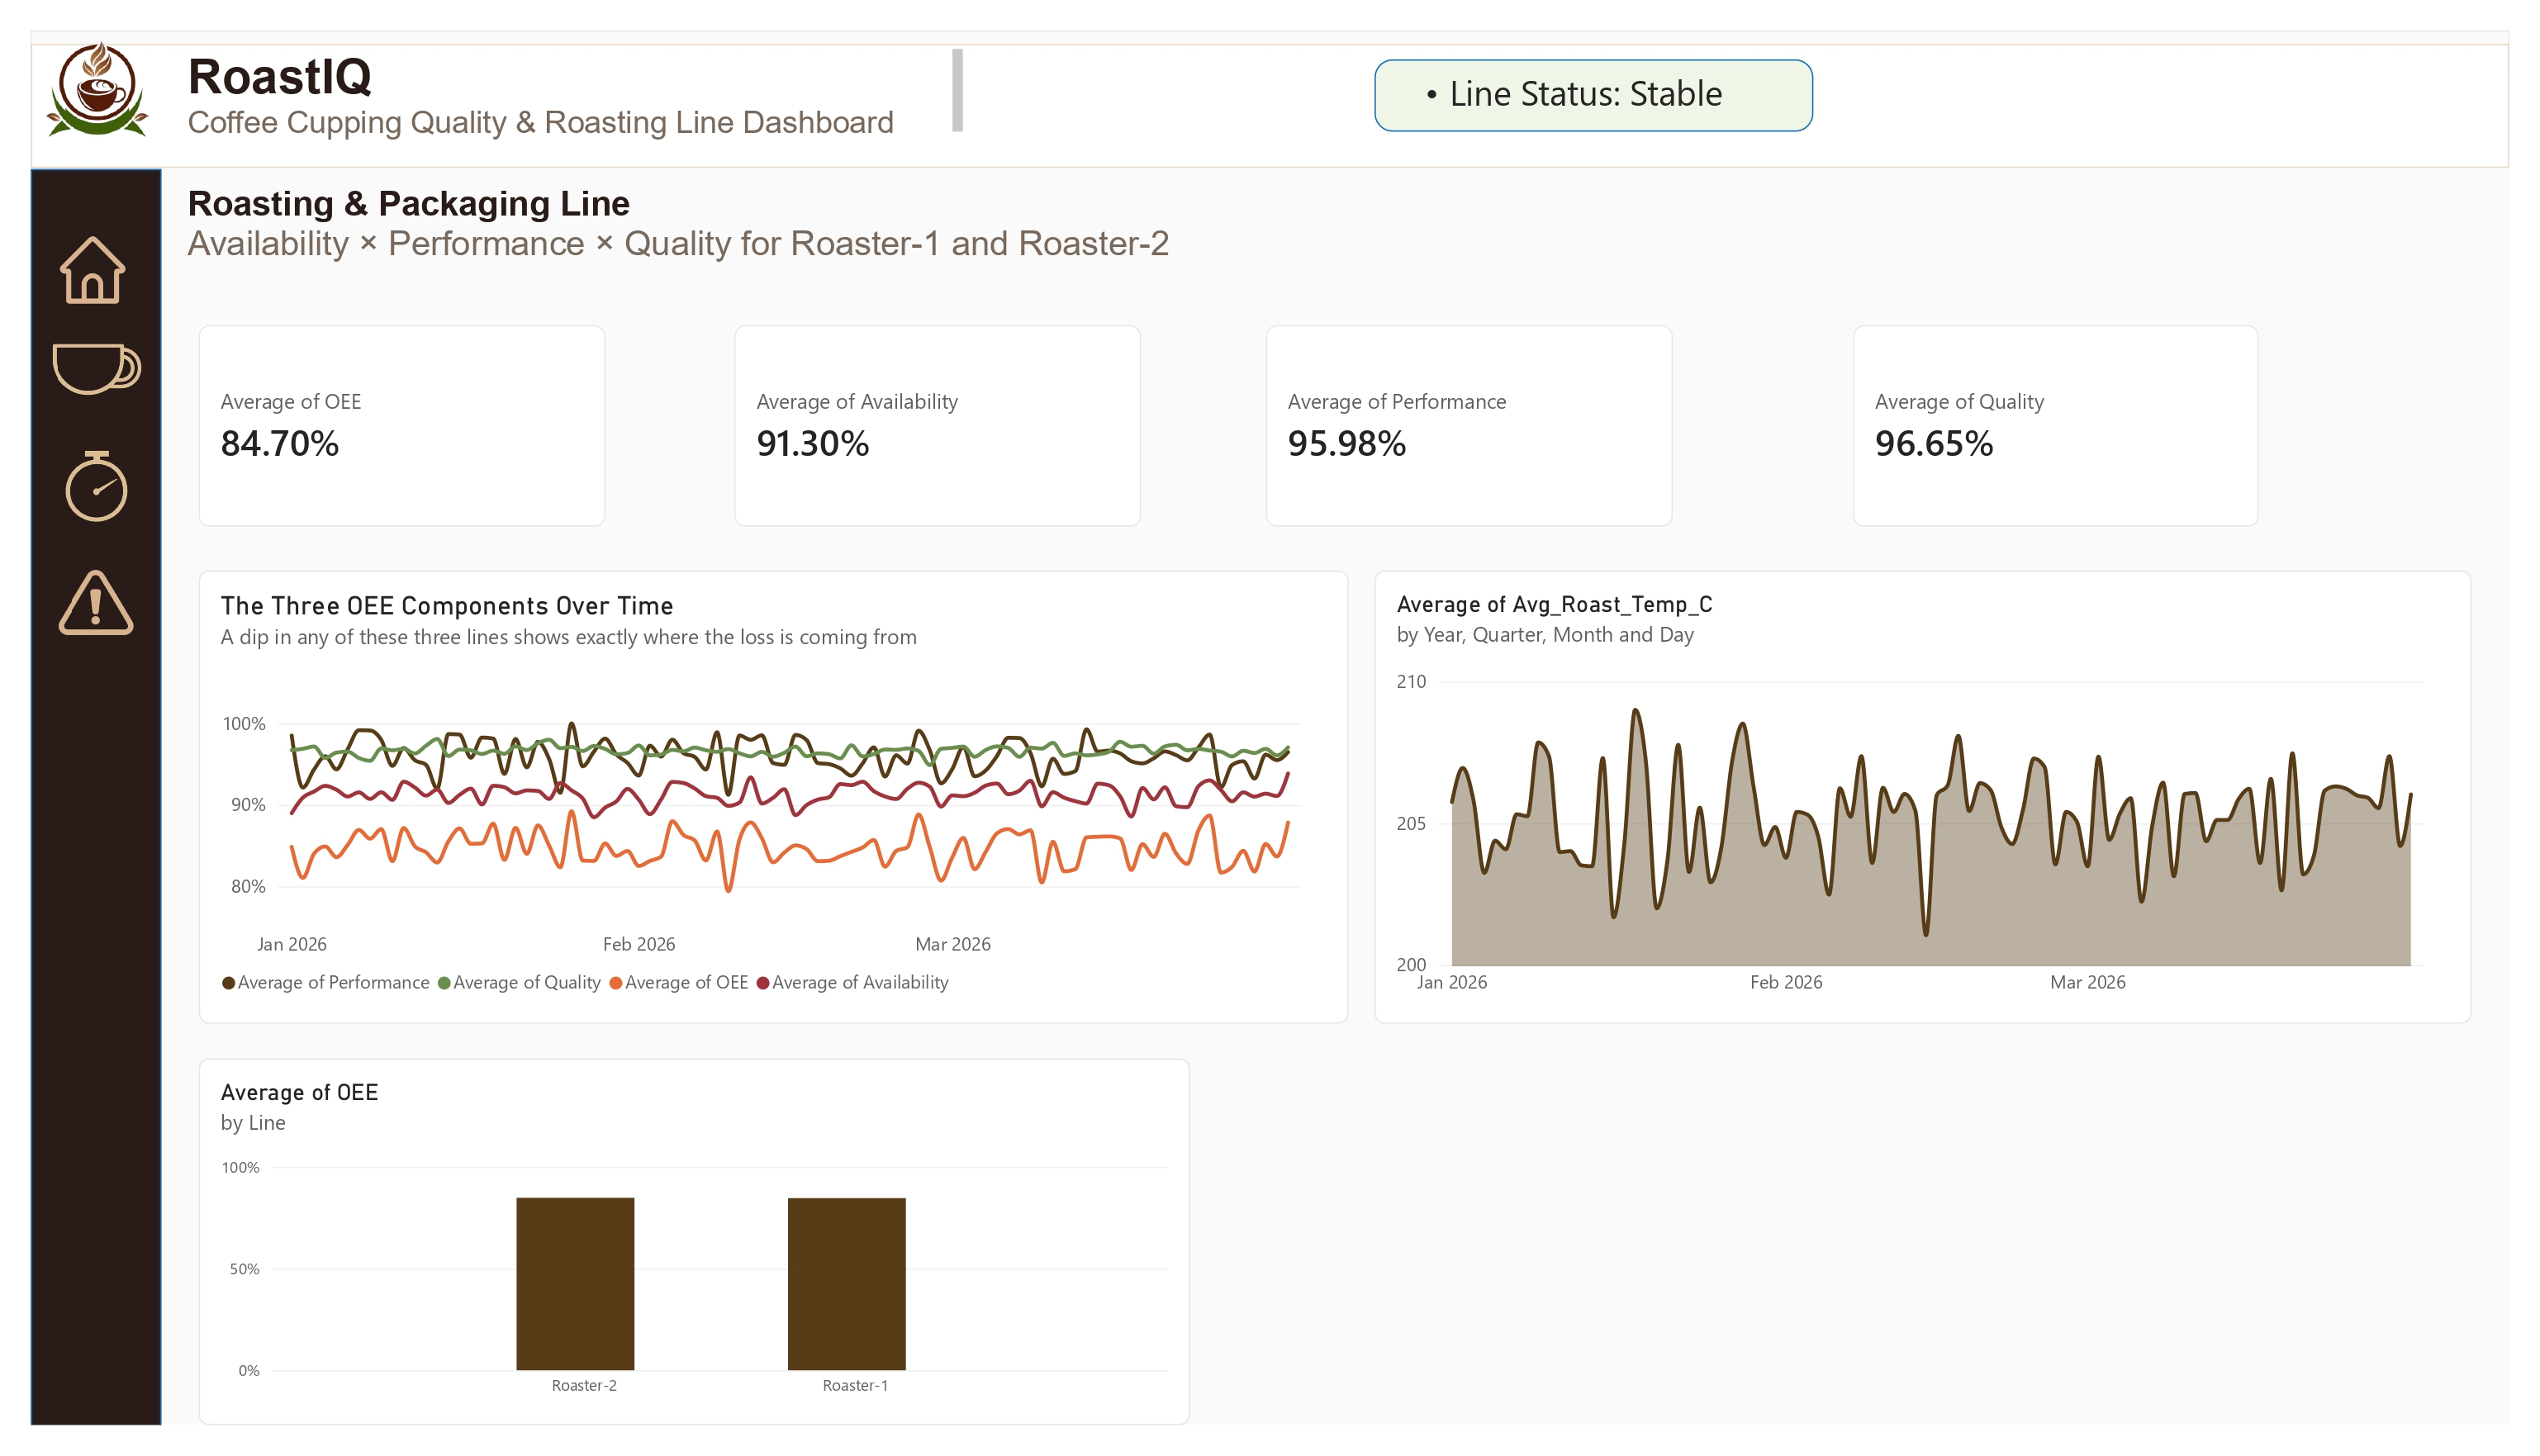

Layout of this report page (visuals, bound fields, positions):
{"tool":"powerbi","page":{"name":"Roasting Line","canvas":[1920,1080],"ordinal":2},"visuals":[{"type":"textbox","box":[121.2,119.4,1172.7,95.9],"z":0},{"type":"shape","box":[0,106.8,101,974],"z":1000},{"type":"cardVisual","fields":{"Data":["Avg(Fact_RoastingLine.OEE)"]},"box":[130.3,228,314.9,155.6],"z":2000},{"type":"cardVisual","fields":{"Data":["Avg(Fact_RoastingLine.Quality)"]},"box":[1411.5,228,314.9,155.6],"z":3000},{"type":"cardVisual","fields":{"Data":["Avg(Fact_RoastingLine.Performance)"]},"box":[957.3,228,314.9,155.6],"z":4000},{"type":"cardVisual","fields":{"Data":["Avg(Fact_RoastingLine.Availability)"]},"box":[544.7,228,314.9,155.6],"z":5000},{"type":"image","box":[9,155.6,77.8,59.7],"z":6000},{"type":"image","box":[12.7,320.3,79.6,63.3],"z":7000},{"type":"image","box":[14.5,412.6,70.6,58],"z":8000},{"type":"image","box":[9,229.8,81.4,61],"z":9000},{"type":"shape","box":[0,10,1920.1,95.9],"z":10000},{"type":"image","box":[2.1,0,97.7,90.5],"z":11000},{"type":"textbox","box":[121.2,14.5,600.8,76],"z":12000},{"type":"shape","box":[1040.8,21.6,340.2,56.1],"z":13000},{"type":"textbox","box":[1058.9,28.8,289.5,49],"z":14000},{"type":"lineChart","title":"The Three OEE Components Over Time","fields":{"Y":["Avg(Fact_RoastingLine.Performance)","Avg(Fact_RoastingLine.Quality)","Avg(Fact_RoastingLine.OEE)","Avg(Fact_RoastingLine.Availability)"],"Category":["Fact_RoastingLine.Date.Variation.Date Hierarchy.Year","Fact_RoastingLine.Date.Variation.Date Hierarchy.Quarter","Fact_RoastingLine.Date.Variation.Date Hierarchy.Month","Fact_RoastingLine.Date.Variation.Date Hierarchy.Day"]},"box":[130.3,418,890.4,351.1],"z":15000},{"type":"areaChart","fields":{"Y":["Avg(Fact_RoastingLine.Avg_Roast_Temp_C)"],"Category":["Fact_RoastingLine.Date.Variation.Date Hierarchy.Year","Fact_RoastingLine.Date.Variation.Date Hierarchy.Quarter","Fact_RoastingLine.Date.Variation.Date Hierarchy.Month","Fact_RoastingLine.Date.Variation.Date Hierarchy.Day"]},"box":[1040.6,418,850.5,351.1],"z":16000},{"type":"clusteredColumnChart","fields":{"Category":["Fact_RoastingLine.Line"],"Y":["Avg(Fact_RoastingLine.OEE)"]},"box":[130.3,796.3,767.3,284.1],"z":17000}]}

Visuals, with their boxes on the page's 1920x1080 design canvas (x1, y1, x2, y2). These are canvas units, not pixel positions in the 2540x1456 screenshot, which may show the page scaled, cropped or inside an application window:
textbox: [left=121, top=119, right=1294, bottom=215]
shape: [left=0, top=107, right=101, bottom=1081]
cardVisual - Avg(Fact_RoastingLine.OEE): [left=130, top=228, right=445, bottom=384]
cardVisual - Avg(Fact_RoastingLine.Quality): [left=1412, top=228, right=1726, bottom=384]
cardVisual - Avg(Fact_RoastingLine.Performance): [left=957, top=228, right=1272, bottom=384]
cardVisual - Avg(Fact_RoastingLine.Availability): [left=545, top=228, right=860, bottom=384]
image: [left=9, top=156, right=87, bottom=215]
image: [left=13, top=320, right=92, bottom=384]
image: [left=14, top=413, right=85, bottom=471]
image: [left=9, top=230, right=90, bottom=291]
shape: [left=0, top=10, right=1920, bottom=106]
image: [left=2, top=0, right=100, bottom=90]
textbox: [left=121, top=14, right=722, bottom=90]
shape: [left=1041, top=22, right=1381, bottom=78]
textbox: [left=1059, top=29, right=1348, bottom=78]
"The Three OEE Components Over Time" lineChart: [left=130, top=418, right=1021, bottom=769]
areaChart - Avg(Fact_RoastingLine.Avg_Roast_Temp_C) x Fact_RoastingLine.Date.Variation.Date Hierarchy.Year: [left=1041, top=418, right=1891, bottom=769]
clusteredColumnChart - Fact_RoastingLine.Line x Avg(Fact_RoastingLine.OEE): [left=130, top=796, right=898, bottom=1080]
